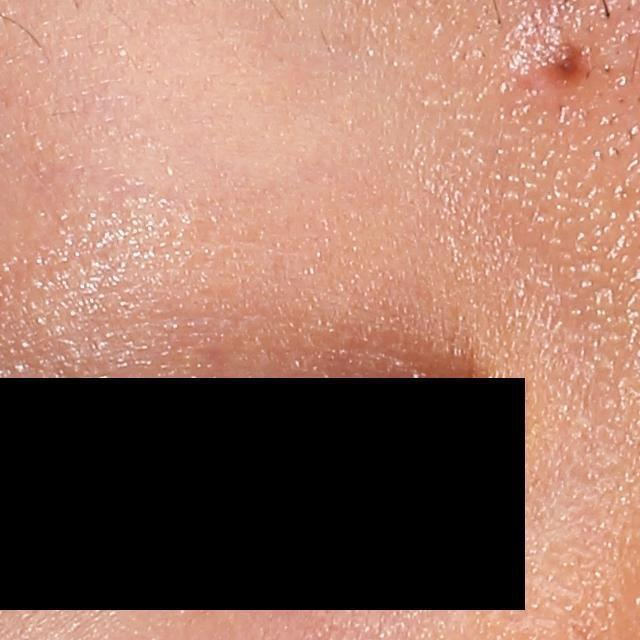nevus: (540, 32, 586, 89)
